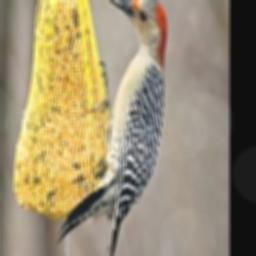Woodpecker: (52, 0, 183, 254)
